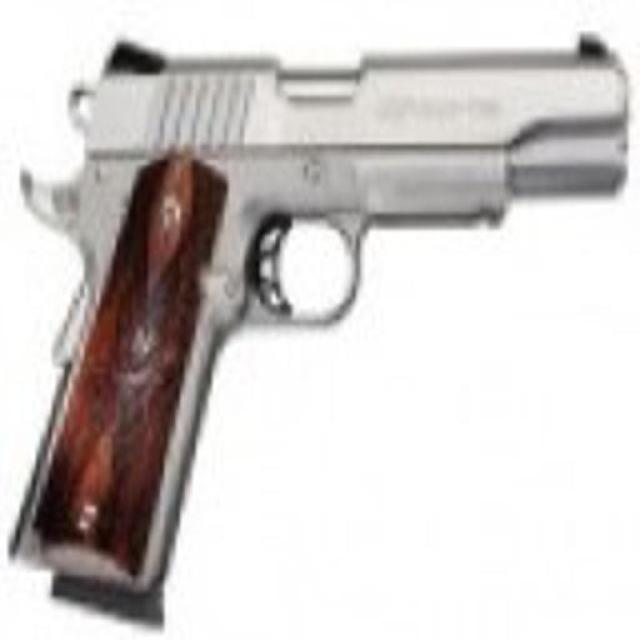pistol: (23, 26, 631, 612)
